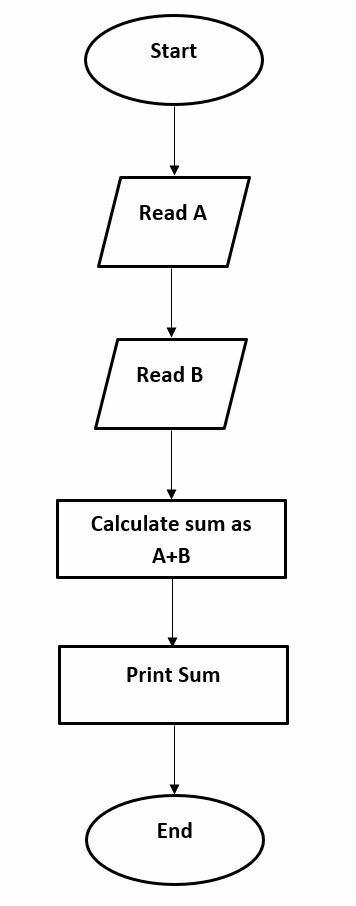arrow: (162, 721, 185, 794), (162, 573, 183, 650), (166, 102, 184, 175), (162, 266, 180, 339), (162, 428, 180, 499)
data: (89, 334, 255, 436), (93, 171, 254, 273)
process: (54, 640, 293, 730), (51, 495, 291, 583)
terminator: (80, 791, 272, 893), (80, 12, 266, 108)
text: (85, 506, 255, 566), (121, 661, 224, 688), (130, 361, 209, 387), (132, 198, 210, 224), (146, 34, 199, 65), (151, 817, 198, 843)
